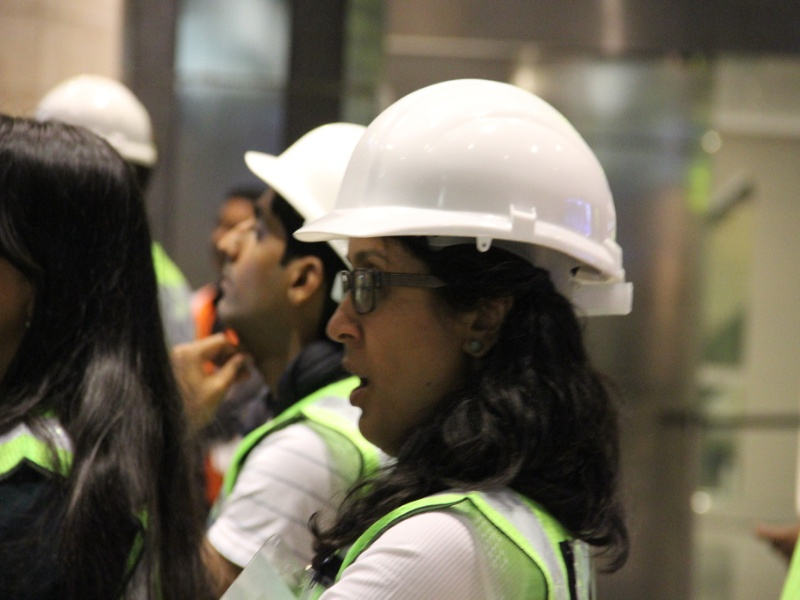Baret: (293, 76, 631, 303)
